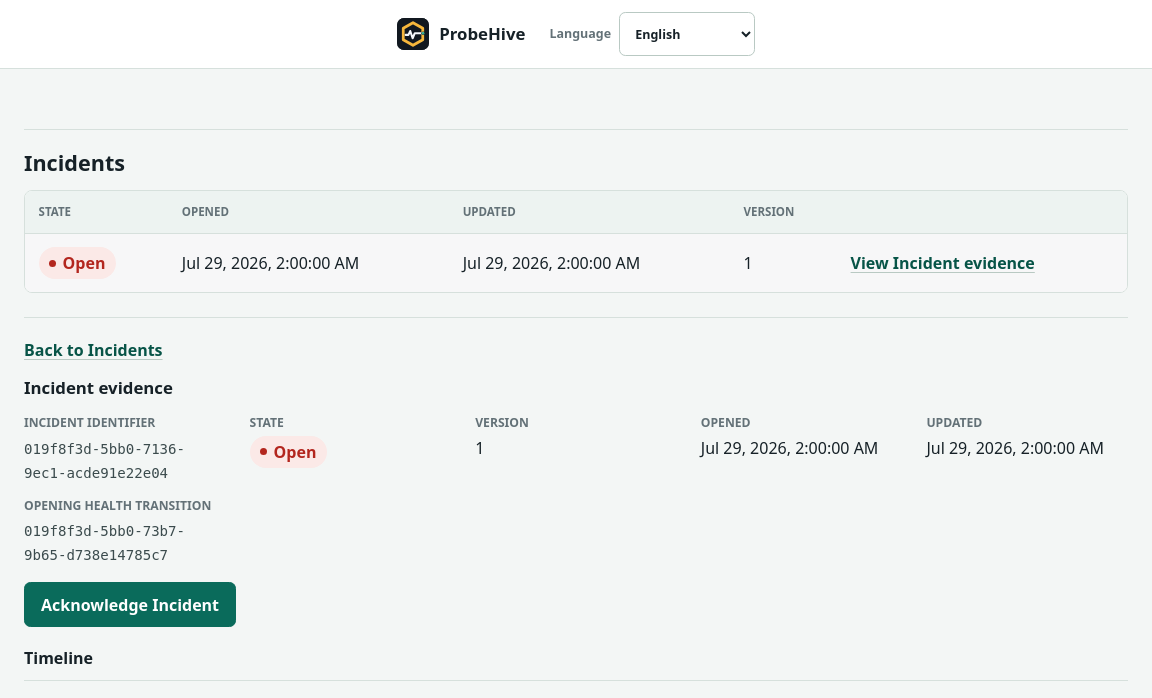
localizes a rejected acknowledgement from its stable permission code
Click the button "Acknowledge Incident": (130, 605) left=24, top=582, right=236, bottom=627
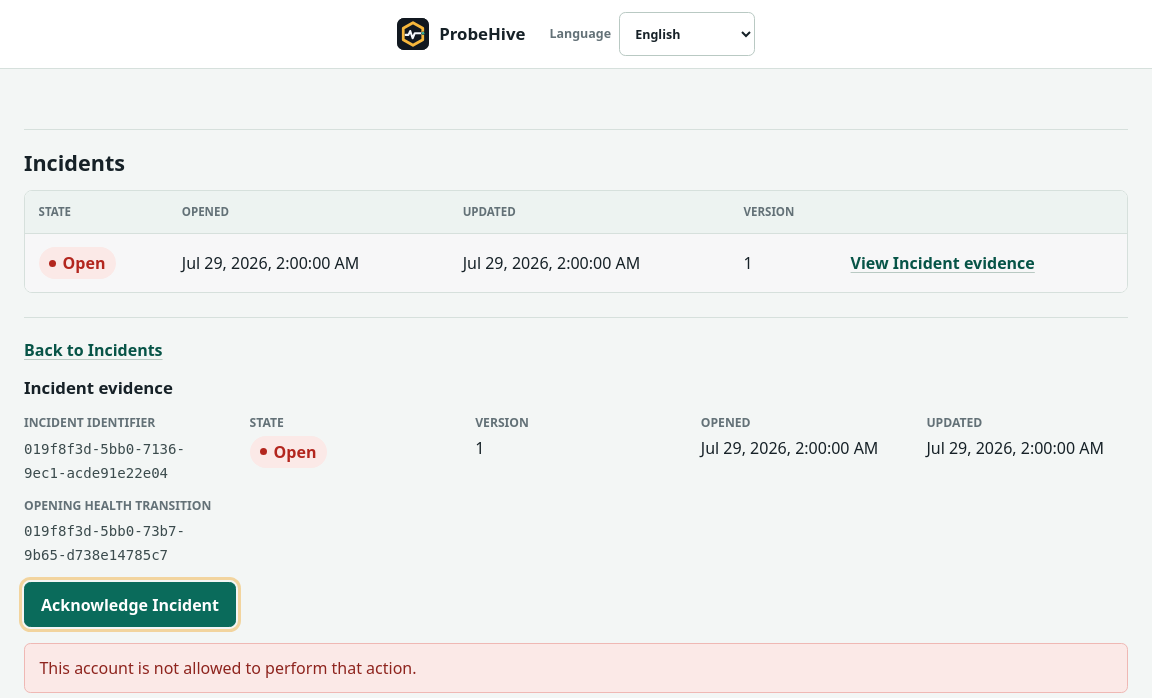
Expected: the text "This account is not allowed to perform that action." is shown, left=24, top=643, right=1128, bottom=693
